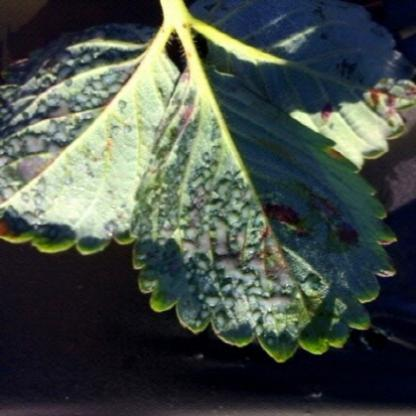Strawberry_Angular_LeafSpot: (129, 52, 398, 362), (0, 23, 182, 255), (188, 0, 415, 168)
